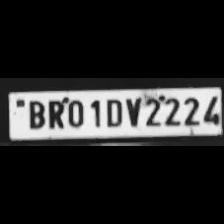0: (64, 97, 86, 128)
1: (85, 97, 103, 128)
2: (160, 94, 180, 126), (180, 94, 200, 126), (142, 94, 160, 128)
4: (201, 93, 221, 125)
B: (24, 98, 46, 130)
D: (103, 96, 123, 128)
R: (45, 97, 65, 129)
V: (122, 95, 142, 127)
